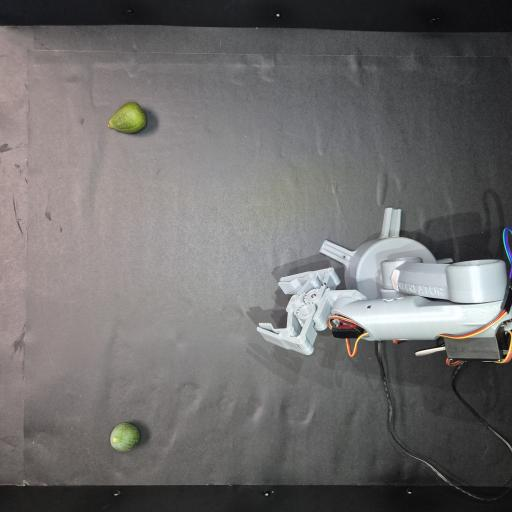higo: (108, 102, 146, 134), (111, 423, 140, 451)
